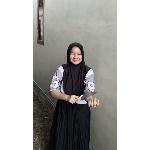Pisau: (74, 90, 100, 102)
